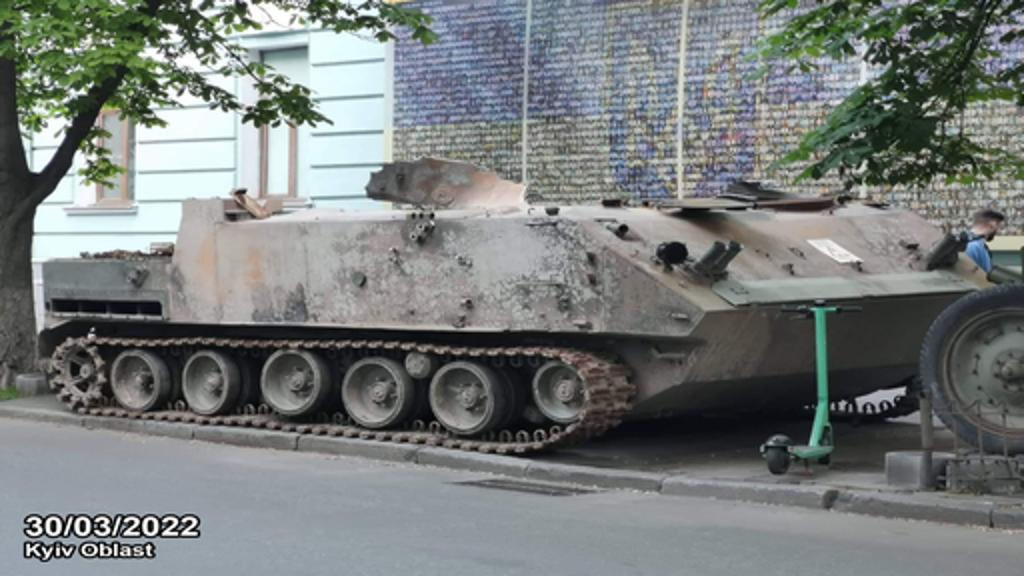APC-IFV: (28, 160, 998, 468)
